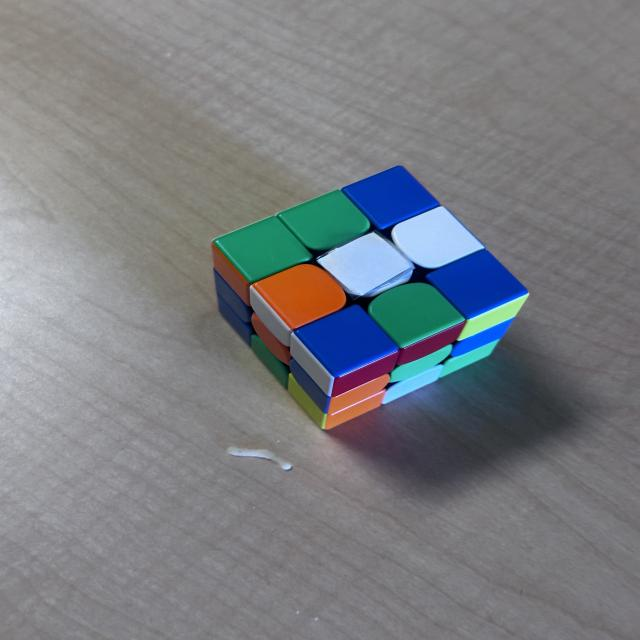sticker: (290, 304, 398, 397), (424, 250, 527, 341), (251, 263, 349, 347), (366, 283, 462, 366), (213, 216, 312, 292), (315, 229, 416, 301), (339, 165, 438, 233), (390, 206, 486, 270), (288, 371, 390, 431), (277, 190, 372, 254), (451, 294, 527, 344), (391, 322, 462, 368), (446, 316, 516, 360), (214, 268, 254, 340), (326, 374, 390, 419), (385, 344, 452, 386), (381, 364, 444, 406), (325, 390, 388, 431), (211, 246, 252, 308), (438, 338, 501, 378), (251, 313, 292, 367), (250, 334, 290, 389), (288, 359, 326, 413), (286, 376, 322, 428)
